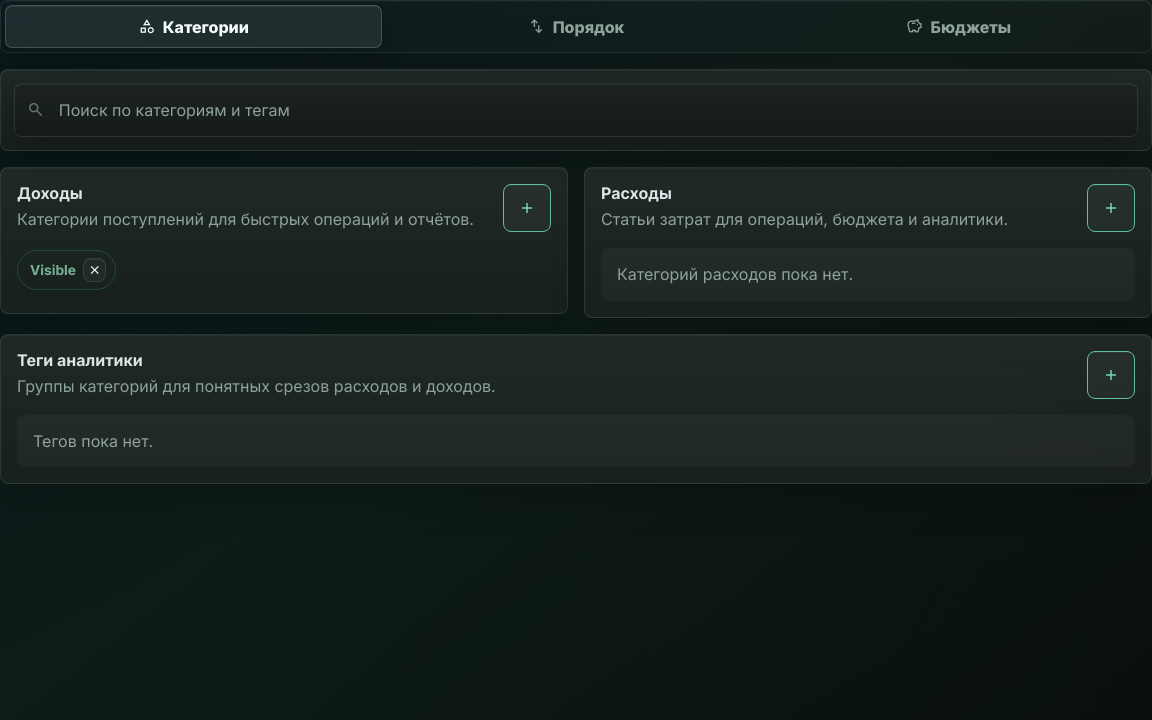
Test: CategoriesTabComponent › uses full category order items when category cards are filtered
What coordinates should you click on to do the following:
click the tab with test id "category-subtab-order"
I would click on:
 (576, 27)
Its box is [388, 5, 764, 48].
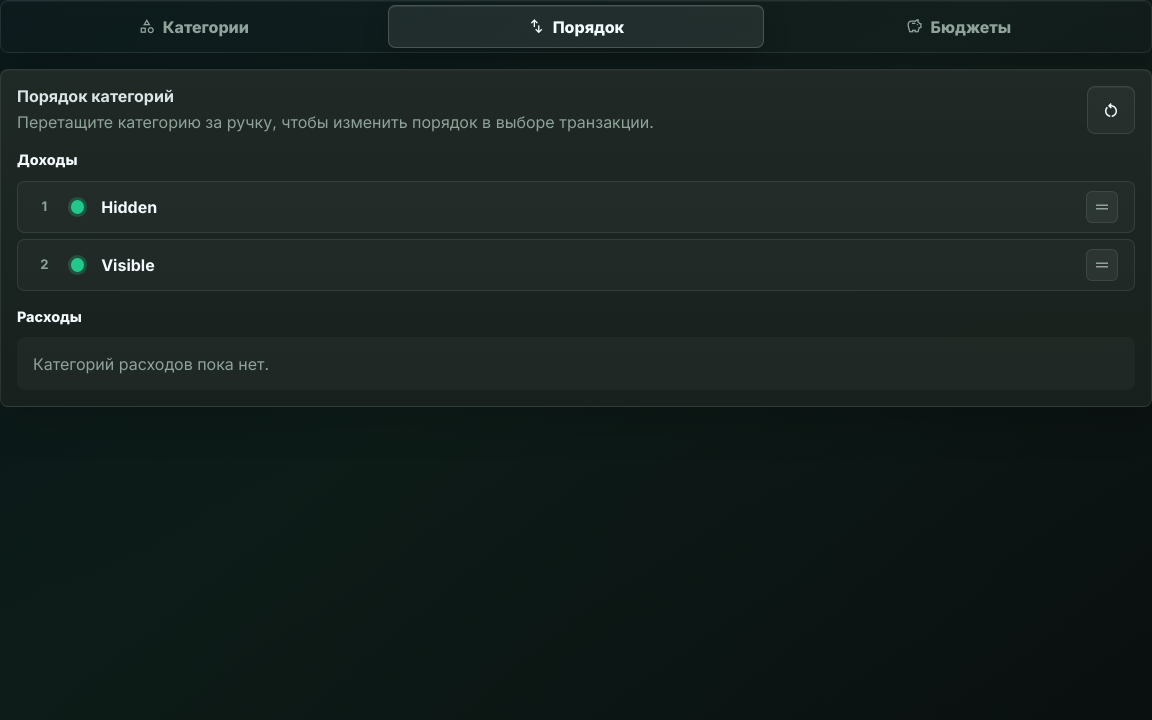
Check: the button with test id "drag-category-handle" in the row of "Visible" is shown, box [1086, 249, 1118, 281]
